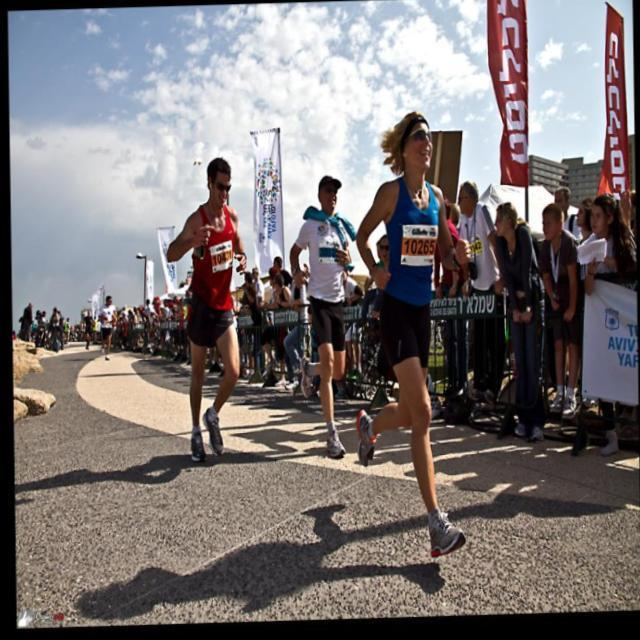dorsal: (399, 224, 441, 274), (206, 240, 236, 276), (318, 240, 342, 271)
